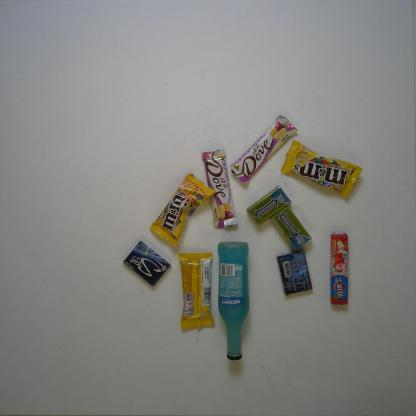Alcohol: (212, 238, 252, 364)
Candy: (326, 232, 352, 308)
Chocolate: (146, 172, 218, 250), (227, 113, 301, 186), (281, 136, 365, 200), (174, 245, 216, 333), (200, 144, 242, 229)
Gum: (120, 240, 172, 288), (244, 181, 296, 226), (268, 205, 313, 253), (277, 247, 314, 298)
